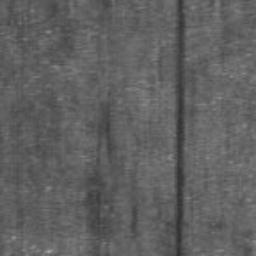Scratches: (174, 0, 185, 256)
